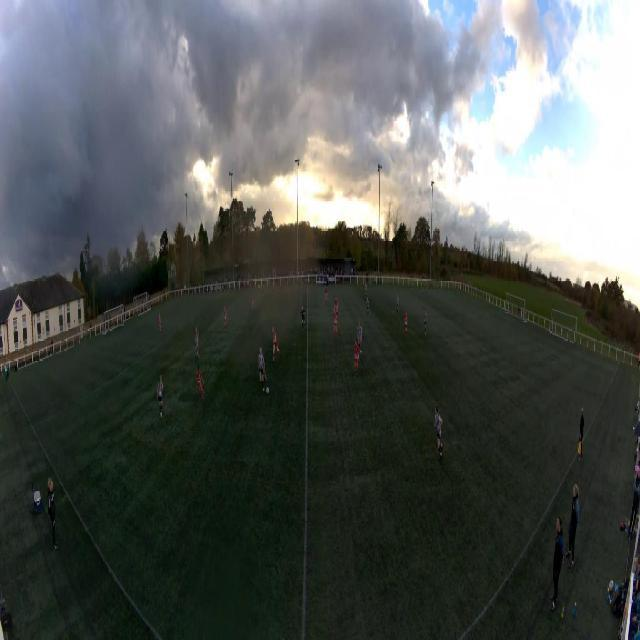ball: (266, 387, 270, 394)
player: (434, 406, 443, 458), (258, 349, 267, 390), (272, 327, 281, 361), (196, 368, 205, 399), (157, 373, 163, 419), (333, 306, 340, 338), (354, 340, 360, 377), (357, 318, 363, 353), (300, 306, 306, 333), (195, 334, 200, 362), (404, 310, 408, 339), (423, 309, 427, 336), (224, 307, 228, 333), (334, 297, 339, 317), (366, 297, 370, 318), (251, 295, 255, 314), (194, 327, 199, 341), (396, 294, 399, 315), (272, 284, 276, 298), (325, 286, 328, 304), (159, 313, 162, 331), (364, 283, 367, 299), (500, 304, 502, 319)
